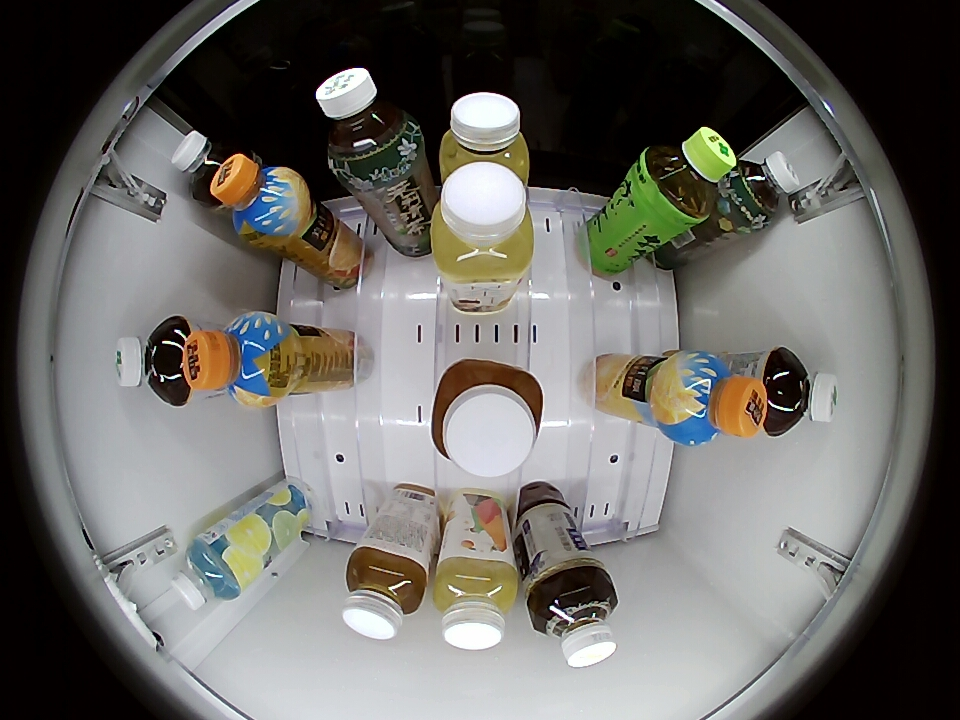chapai: (430, 359, 544, 478), (342, 546, 428, 640)
chapai2: (431, 163, 535, 287), (438, 92, 530, 185), (433, 553, 518, 650)
damaicha: (113, 315, 192, 406), (764, 346, 840, 435)
guolicheng: (655, 351, 768, 446), (184, 312, 293, 406), (213, 153, 309, 245)
moliqingcha: (316, 67, 423, 182), (724, 151, 802, 228)
qinningshui: (170, 536, 246, 610)
wulongcha: (529, 576, 619, 668), (172, 130, 243, 205)
yitengyuan: (635, 126, 736, 225)
